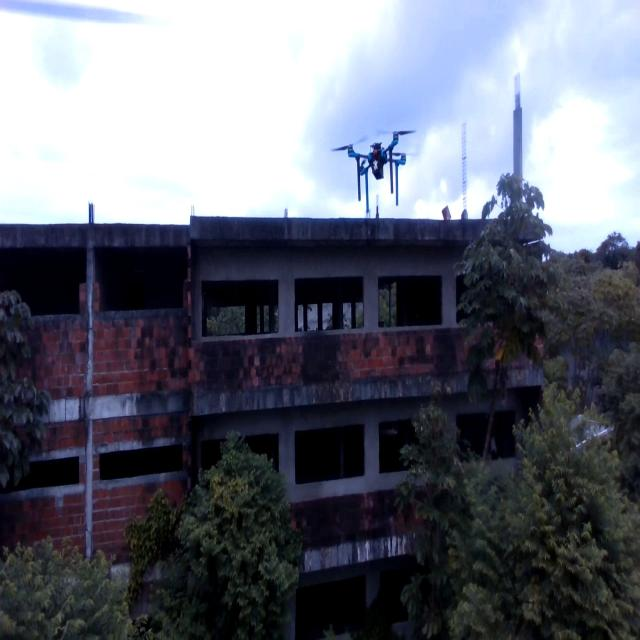-uav-: (329, 117, 418, 219)
